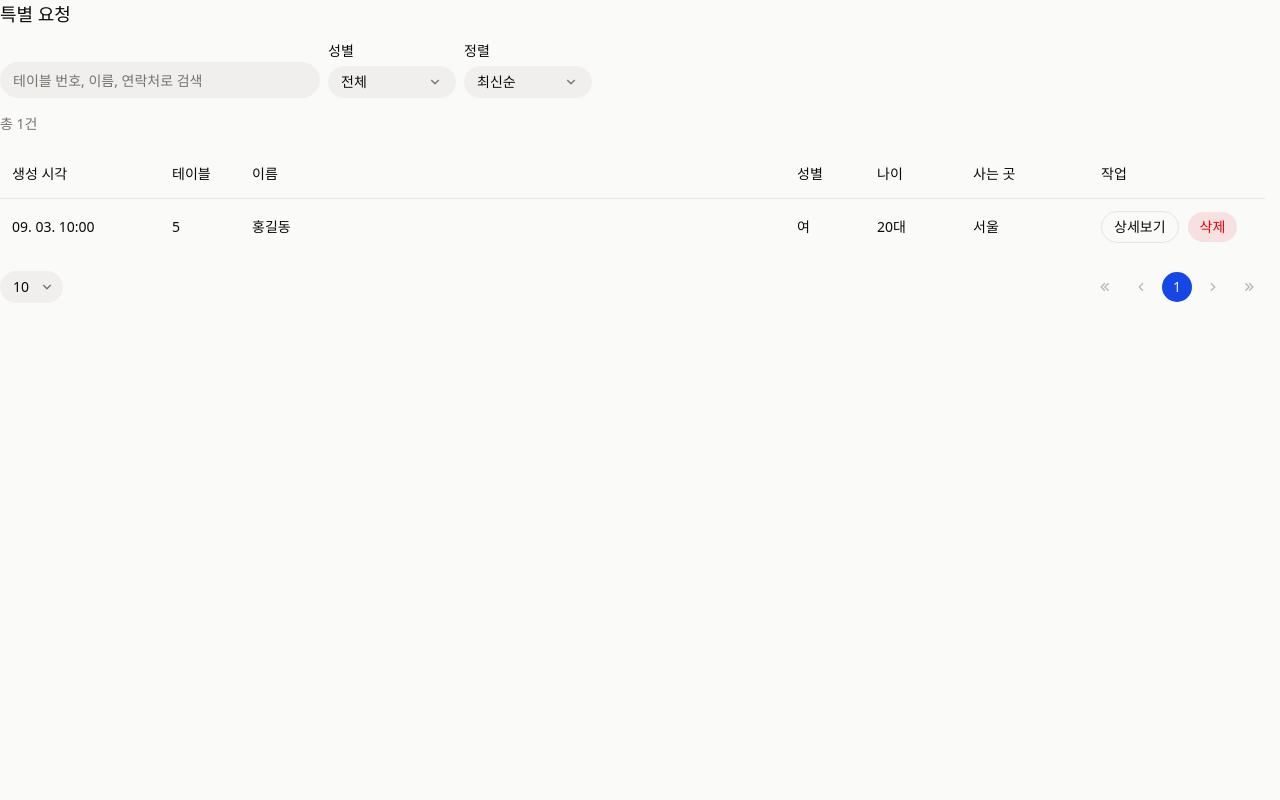
Test case: SpecialRequestPage › opens a detail dialog showing every field when '상세보기' is clicked
Click the button "상세보기".
click(1140, 226)  # box [1101, 210, 1178, 242]
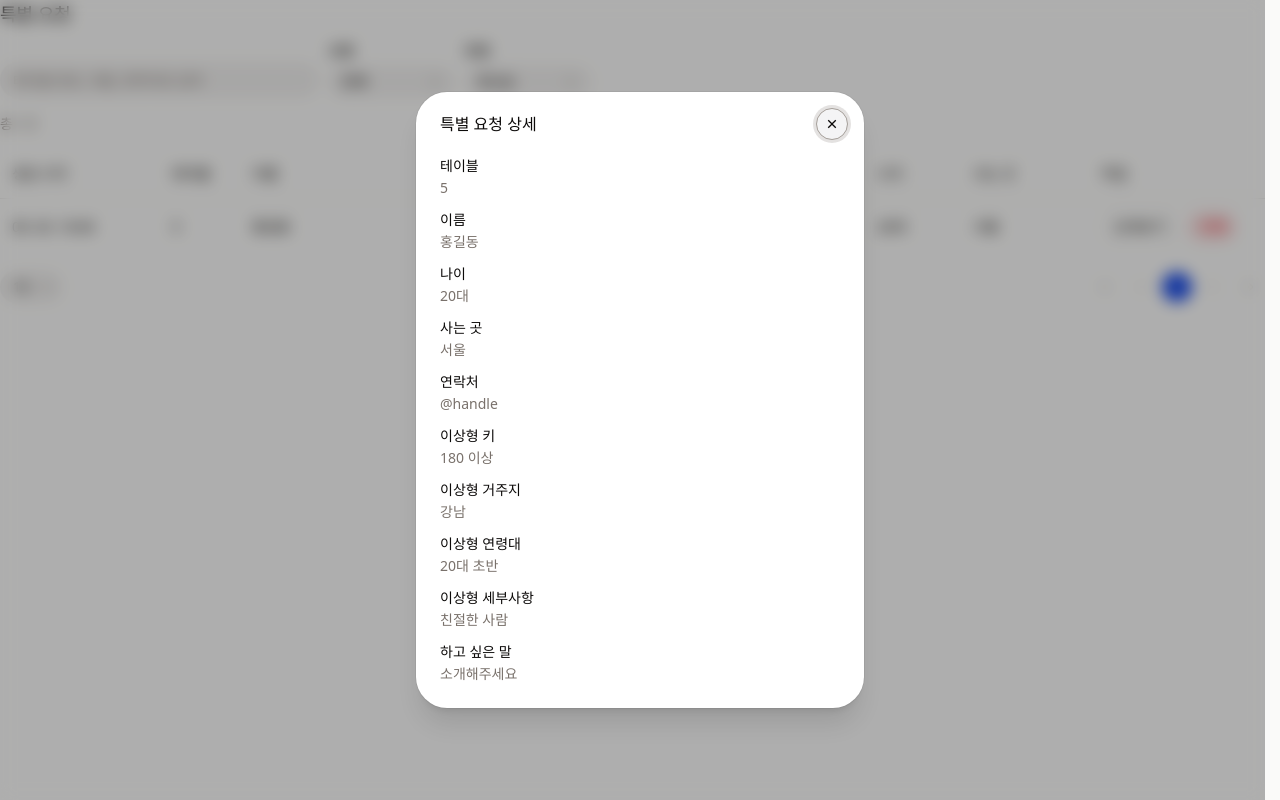
Expected: the text "5" is shown, [440, 178, 448, 197]
Expected: the text "홍길동" is shown, [440, 232, 479, 251]
Expected: the text "20대" is shown, [440, 286, 469, 305]
